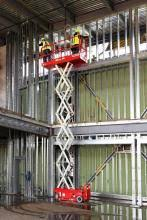Scissor Lift: (39, 36, 92, 205)
